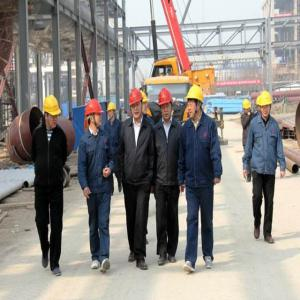red: (86, 99, 104, 130), (159, 88, 174, 123), (129, 89, 144, 121)
yellow: (187, 85, 205, 120), (44, 95, 60, 130), (260, 92, 274, 119), (141, 91, 149, 116), (243, 97, 253, 116), (108, 103, 117, 122)
